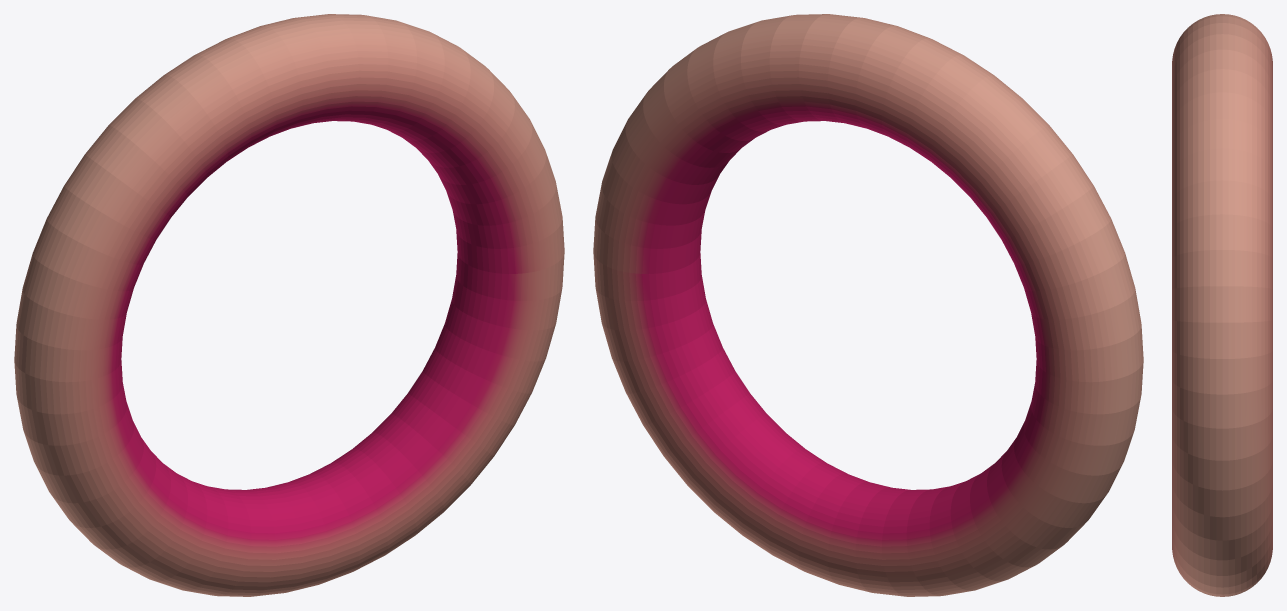
3 renders of one model, left to right at view 1: azimuth 30°, elevation 25°; view 2: azimuth 150°, elevation 25°; view 3: azimuth 270°, elevation 25°, orthographic. The views are drawn at different scales.
Parts seen in each view (by area): view 1: world; view 2: world; view 3: world.
Boxes of the visible parts, left/top/right/bottom form: world: left=14, top=14, right=564, bottom=596; world: left=593, top=14, right=1143, bottom=596; world: left=1172, top=14, right=1272, bottom=596.
Size of the model in its own units: 34.67 by 34.6 by 5.99.
